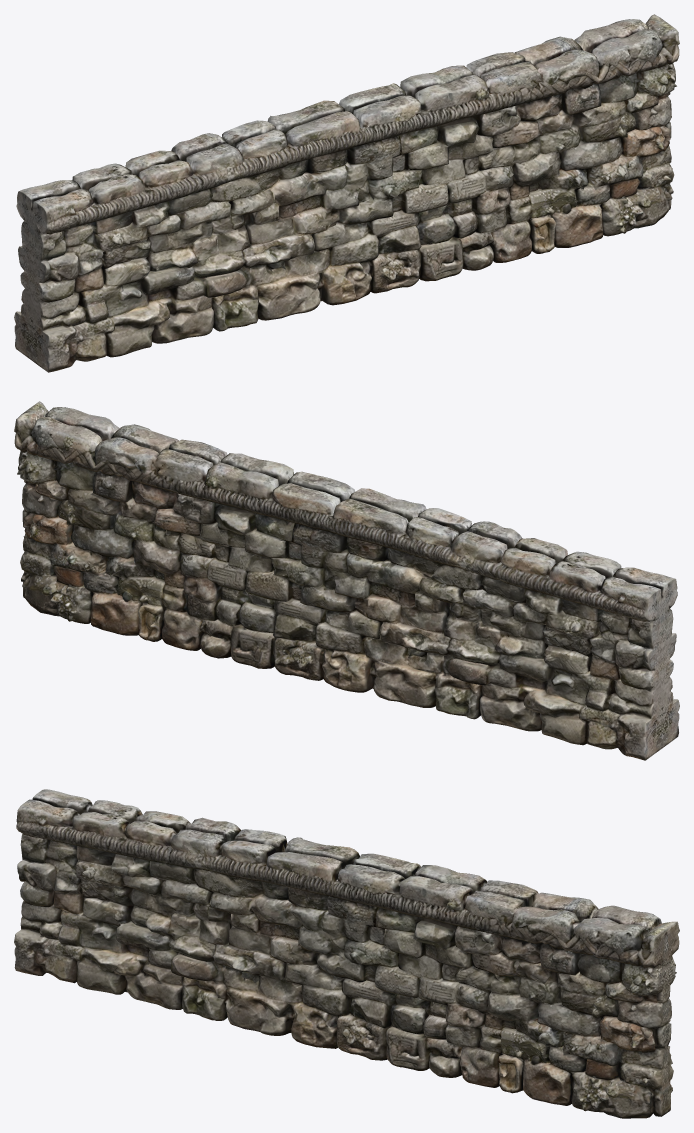
The model's file is fort_savanna_wall.glb.
3 views of the same model, one above another, from view 1: azimuth 30°, elevation 25°; view 2: azimuth 150°, elevation 25°; view 3: azimuth 330°, elevation 25° (orthographic).
Visible parts, largest first — view 1: tripo_node_5bbf1158-06d9-4345-b16c-11885b130c98; view 2: tripo_node_5bbf1158-06d9-4345-b16c-11885b130c98; view 3: tripo_node_5bbf1158-06d9-4345-b16c-11885b130c98.
Boxes of the visible parts, x1=… form: tripo_node_5bbf1158-06d9-4345-b16c-11885b130c98: x1=14, y1=14, x2=679, y2=372; tripo_node_5bbf1158-06d9-4345-b16c-11885b130c98: x1=14, y1=401, x2=679, y2=760; tripo_node_5bbf1158-06d9-4345-b16c-11885b130c98: x1=14, y1=789, x2=679, y2=1118.
Size of the model in its own units: 1 by 0.2792 by 0.1207.
1 material, 1 textured.
